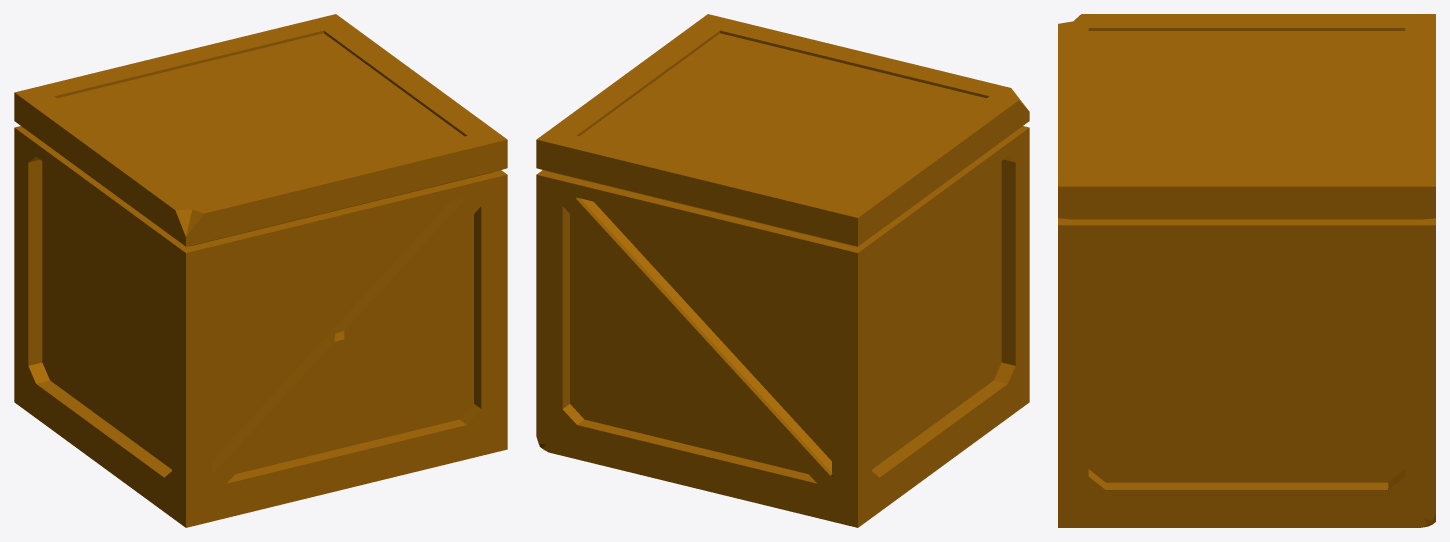
3 views of the same model, side by side, from view 1: azimuth 30°, elevation 25°; view 2: azimuth 150°, elevation 25°; view 3: azimuth 270°, elevation 25° (orthographic). The views are drawn at different scales.
Visible parts, largest first — view 1: Box_02; view 2: Box_02; view 3: Box_02.
Boxes of the visible parts, x1,y1,x2,y2 form: Box_02: (14, 14, 507, 527); Box_02: (536, 14, 1029, 527); Box_02: (1058, 14, 1435, 527).
Size of the model in its own units: 61.98 by 57.16 by 57.27.
